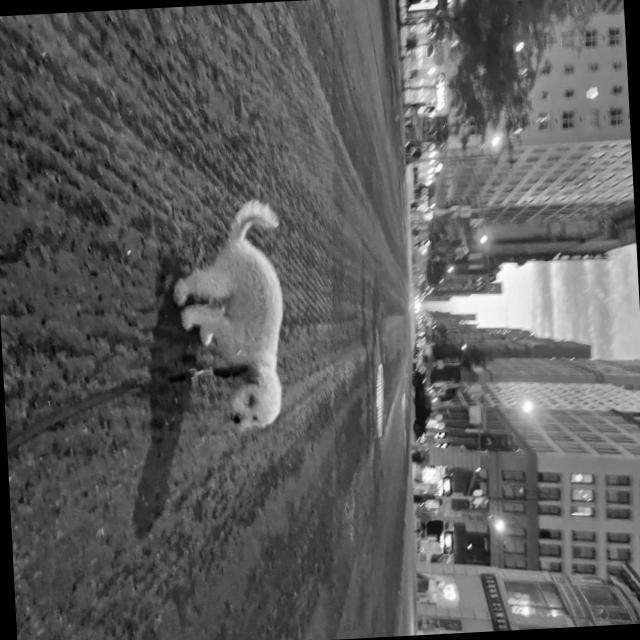squatting: (165, 192, 294, 436)
